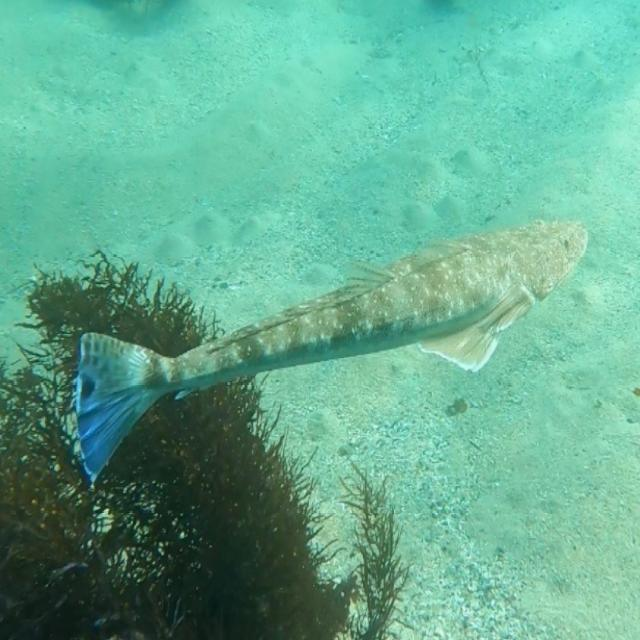Flathead: (66, 204, 606, 516)
